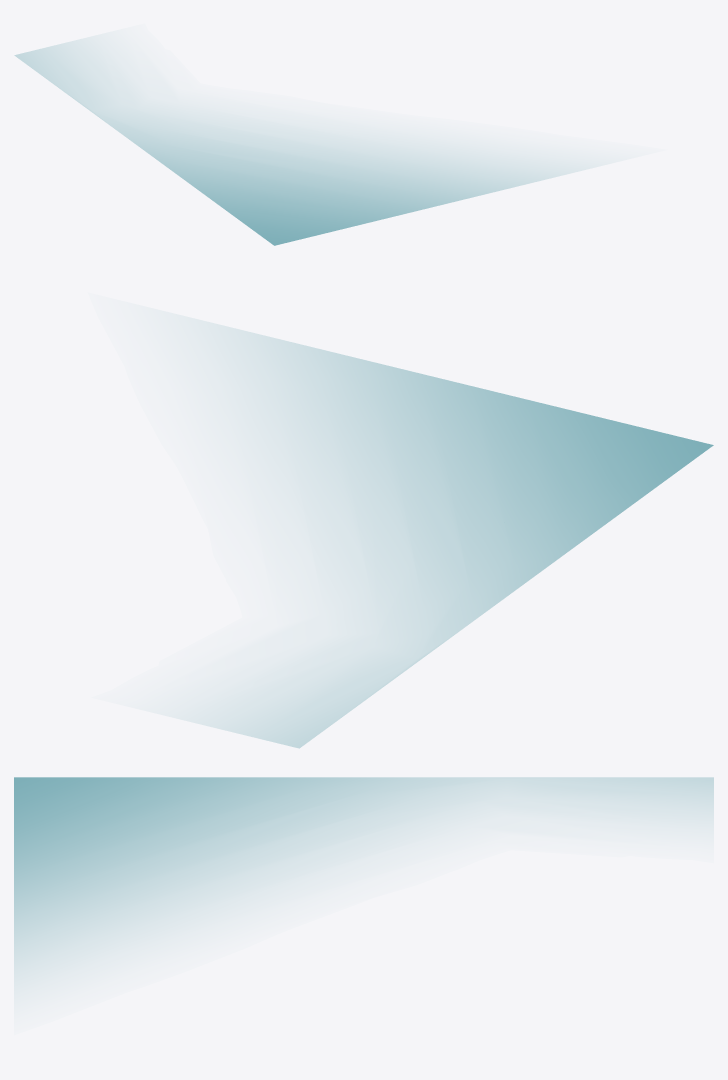
3 renders of one model, top to bottom at view 1: azimuth 30°, elevation 25°; view 2: azimuth 150°, elevation 25°; view 3: azimuth 270°, elevation 25°, orthographic. The views are drawn at different scales.
Parts seen in each view (by area): view 1: city; view 2: city; view 3: city.
Part boxes in pixels (x1,y1,x2,y2): city: [14, 38, 593, 245]; city: [182, 320, 713, 748]; city: [14, 777, 713, 988].
Size of the model in its own units: 487 by 0 by 500.
